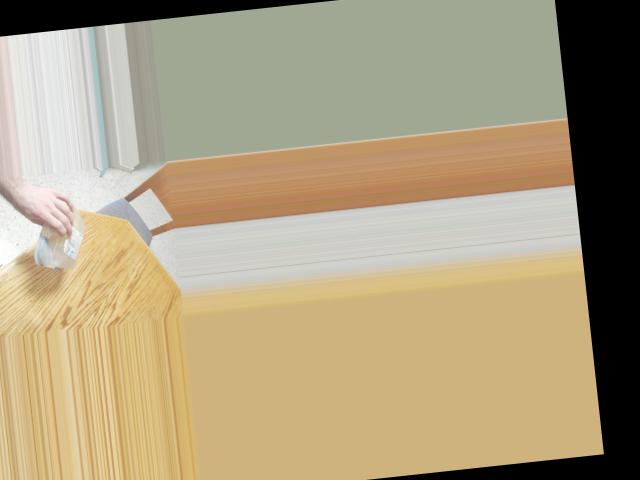cheese: (36, 208, 84, 264)
